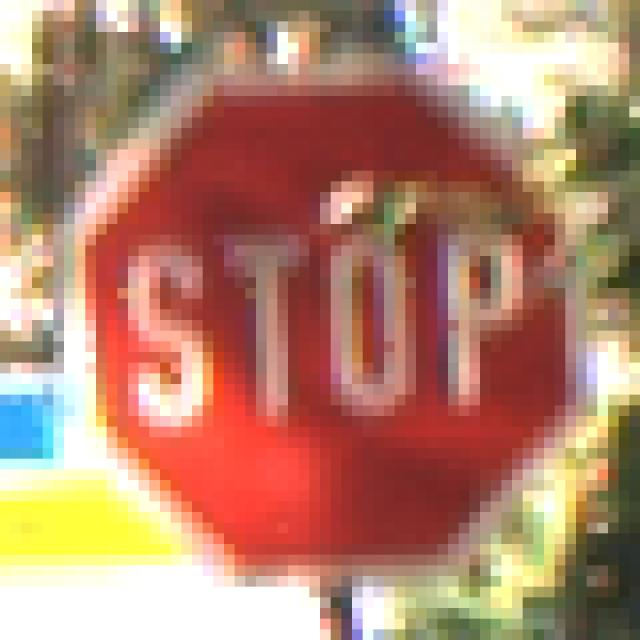STOP: (65, 54, 588, 588)
